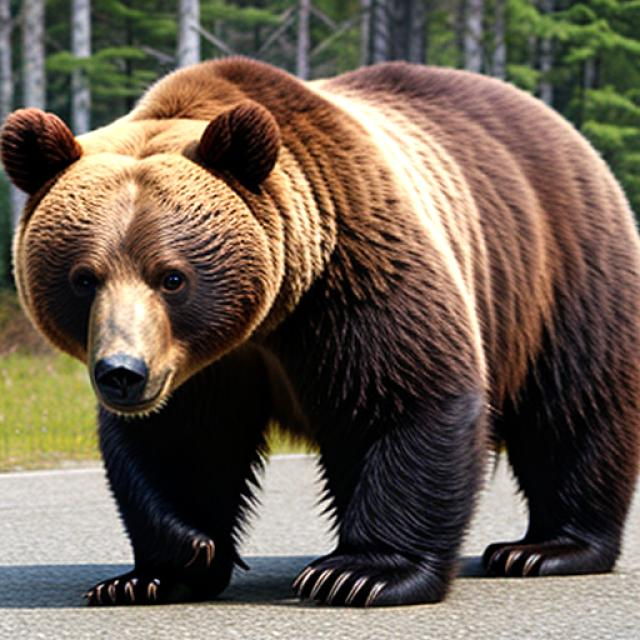bear: (4, 29, 627, 596)
